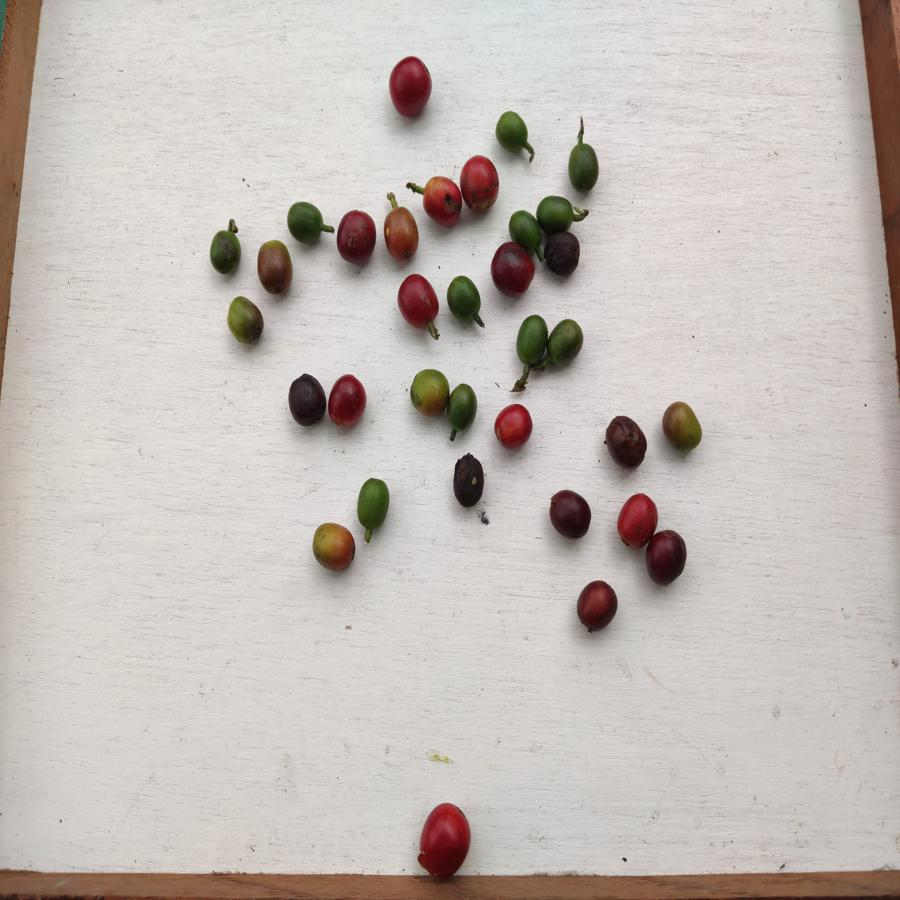Inmaduro: (444, 275, 484, 324), (356, 476, 391, 532), (286, 201, 326, 247), (516, 314, 550, 368), (546, 319, 586, 364), (568, 142, 601, 194), (495, 111, 534, 155), (534, 194, 579, 231), (207, 230, 243, 275), (447, 383, 480, 431), (509, 211, 542, 252)
Maduro: (418, 800, 474, 879), (388, 56, 436, 117), (459, 155, 499, 216), (399, 269, 438, 331), (421, 174, 463, 229), (617, 493, 657, 546), (494, 403, 536, 451)
Pinton: (311, 521, 357, 572), (662, 400, 703, 452), (409, 368, 449, 420), (257, 239, 292, 296), (384, 209, 421, 261), (226, 296, 264, 345)
Sobremaduro: (605, 411, 649, 473), (574, 580, 620, 633), (491, 244, 536, 298), (647, 528, 686, 587), (337, 209, 376, 267), (287, 371, 326, 428), (328, 374, 366, 429), (551, 489, 591, 541), (451, 453, 484, 510), (544, 231, 581, 276)
